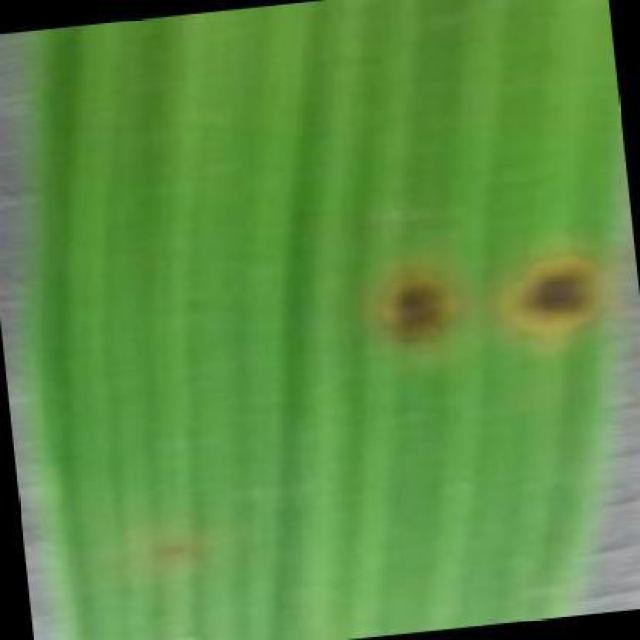Leaf_Blast: (489, 223, 623, 366), (343, 245, 472, 378), (131, 526, 211, 583)
